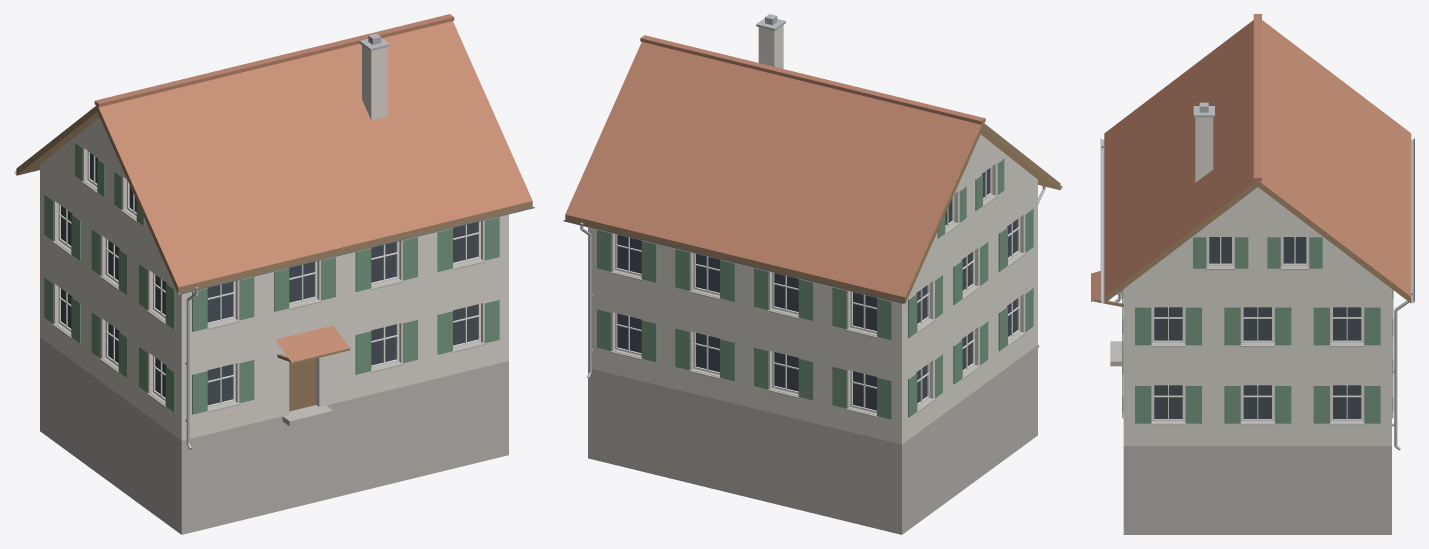
File: house_gable_2_m.glb
The picture shows the model from 3 angles, left to right: view 1: azimuth 30°, elevation 25°; view 2: azimuth 150°, elevation 25°; view 3: azimuth 270°, elevation 25°; orthographic projection. The views are drawn at different scales.
Visible parts, largest first — view 1: house_gable_2_m; view 2: house_gable_2_m; view 3: house_gable_2_m.
Boxes of the visible parts, bbox=[...] form: house_gable_2_m: bbox=[14, 14, 534, 534]; house_gable_2_m: bbox=[563, 14, 1062, 534]; house_gable_2_m: bbox=[1091, 14, 1414, 534].
Bounding box in the file's own units: 13.04 × 14.38 × 10.88.
